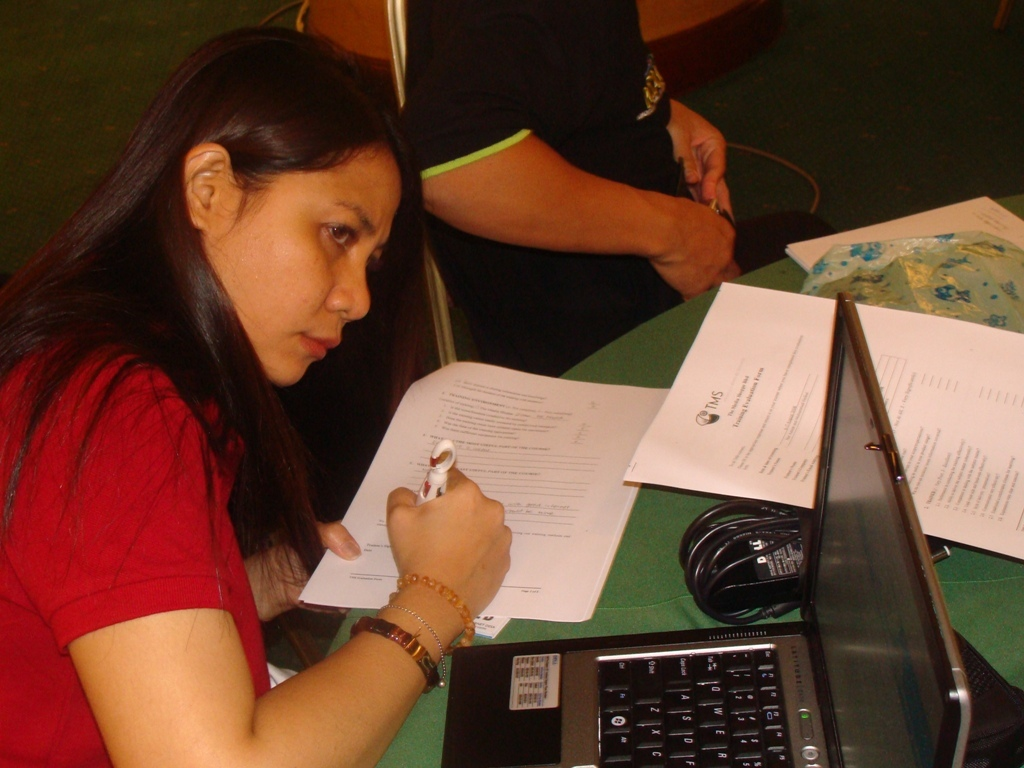Human_hand: (367, 482, 509, 635), (654, 195, 743, 302), (666, 96, 739, 224), (269, 520, 362, 616)
